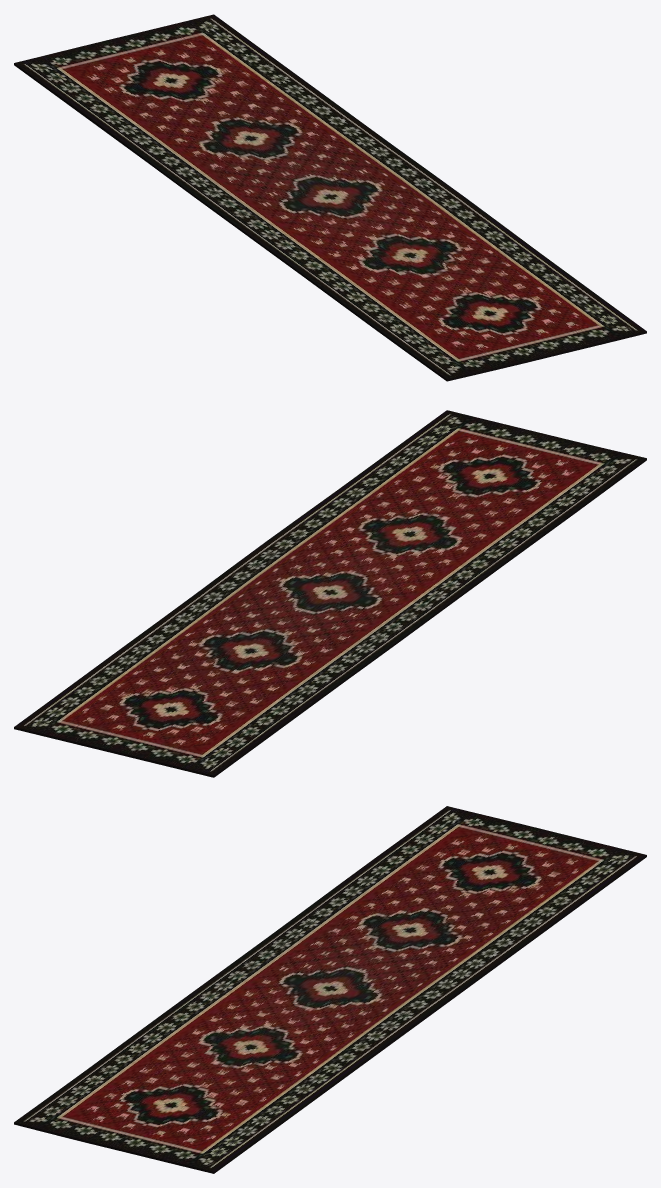
Rendered from carpet_runner_lod1_web.glb.
3 renders of one model, top to bottom at view 1: azimuth 30°, elevation 25°; view 2: azimuth 150°, elevation 25°; view 3: azimuth 330°, elevation 25°, orthographic.
Visible parts, largest first — view 1: CarpetRunner_Body; view 2: CarpetRunner_Body; view 3: CarpetRunner_Body.
Boxes of the visible parts, bbox=[...] form: CarpetRunner_Body: bbox=[14, 14, 646, 381]; CarpetRunner_Body: bbox=[14, 410, 646, 777]; CarpetRunner_Body: bbox=[14, 806, 646, 1173].
Bounding box in the file's own units: 0.8 × 0.0117 × 3.
1 material, 1 textured.
